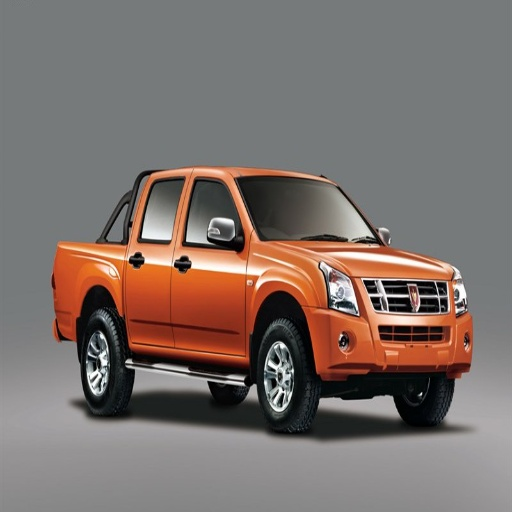front_bumper: (307, 277, 472, 377)
front_right_door: (171, 175, 246, 354)
front_right_light: (321, 265, 362, 317)
trunk: (54, 246, 120, 336)
